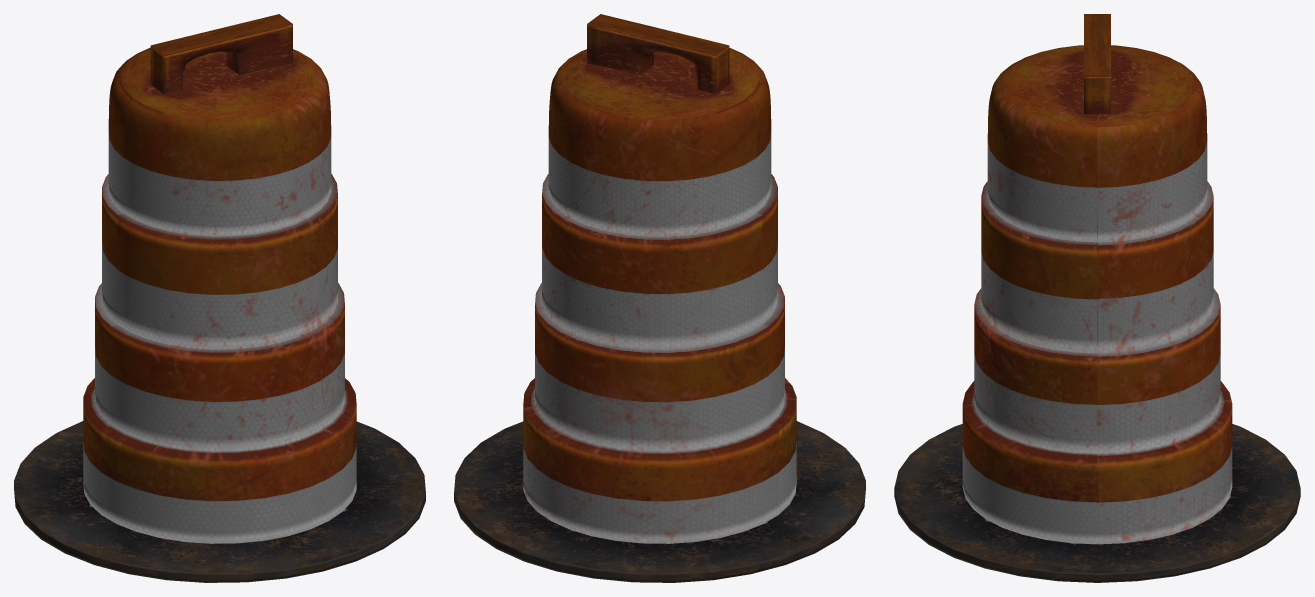
Rendered from constructionplyon.fbx.
3 views of the same model, side by side, from view 1: azimuth 30°, elevation 25°; view 2: azimuth 150°, elevation 25°; view 3: azimuth 270°, elevation 25° (orthographic).
Visible parts, largest first — view 1: Construction Pylon; view 2: Construction Pylon; view 3: Construction Pylon.
Boxes of the visible parts, x1=… form: Construction Pylon: x1=14, y1=14, x2=425, y2=582; Construction Pylon: x1=454, y1=14, x2=865, y2=582; Construction Pylon: x1=894, y1=14, x2=1300, y2=582.
Size of the model in its own units: 250 by 307 by 250.
1 material, 1 textured.
